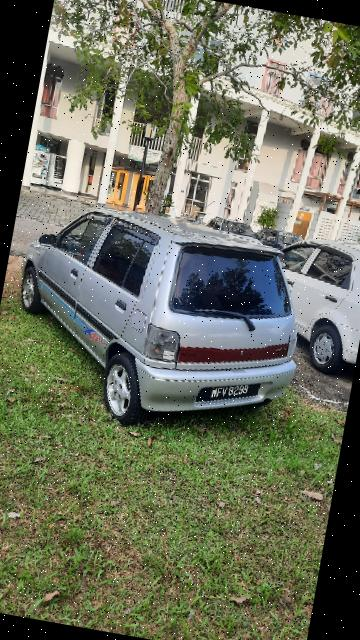License_Plate: (197, 371, 268, 413)
car: (1, 189, 321, 450), (240, 227, 360, 378)
